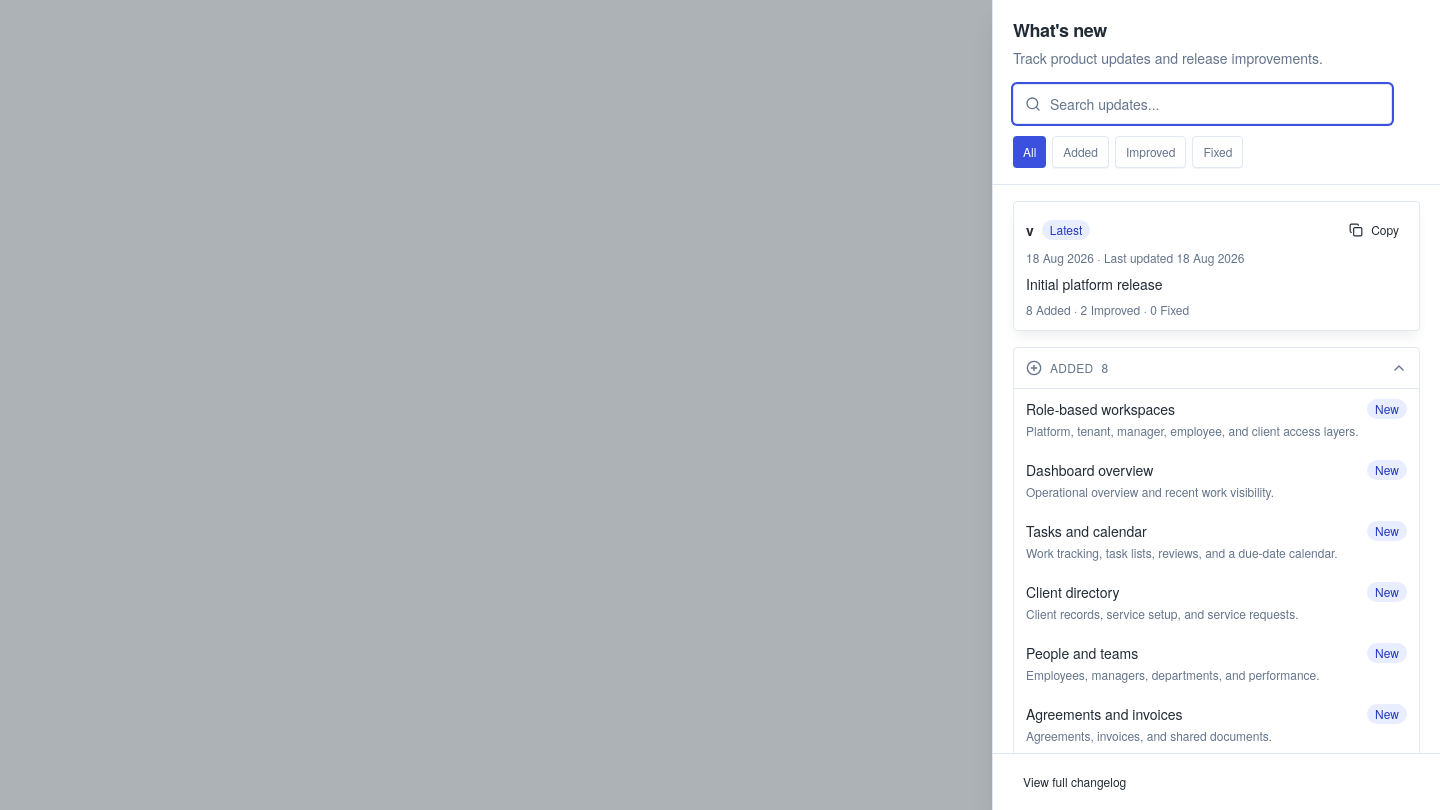
filters release items by search
In the field with placeholder "Search updates...": (1202, 104) top-left (1013, 84), bottom-right (1392, 124), type "calendar"
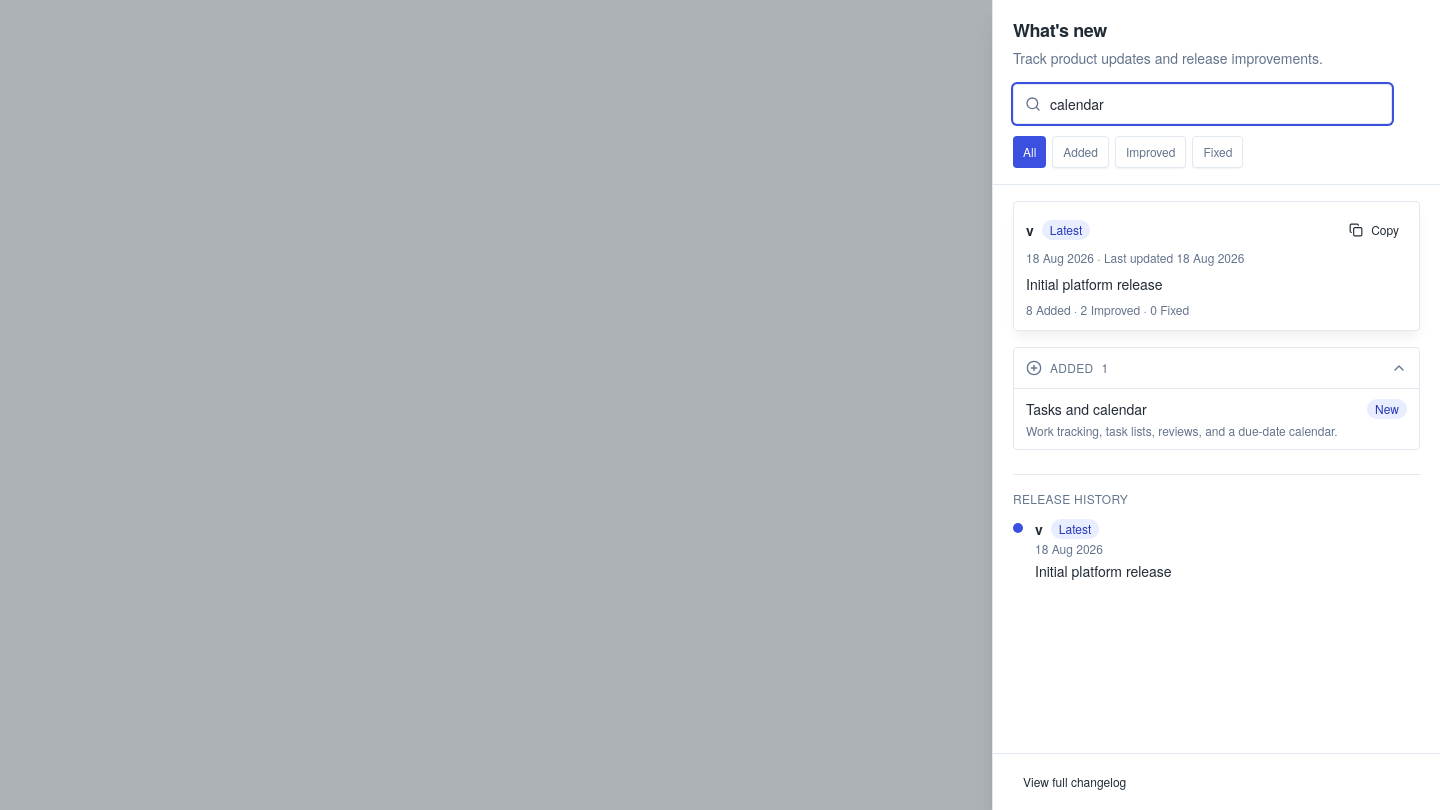
Expected: the heading "Tasks and calendar" is shown, top-left (1026, 399), bottom-right (1147, 419)
Expected: the heading "Role-based workspaces" is gone
